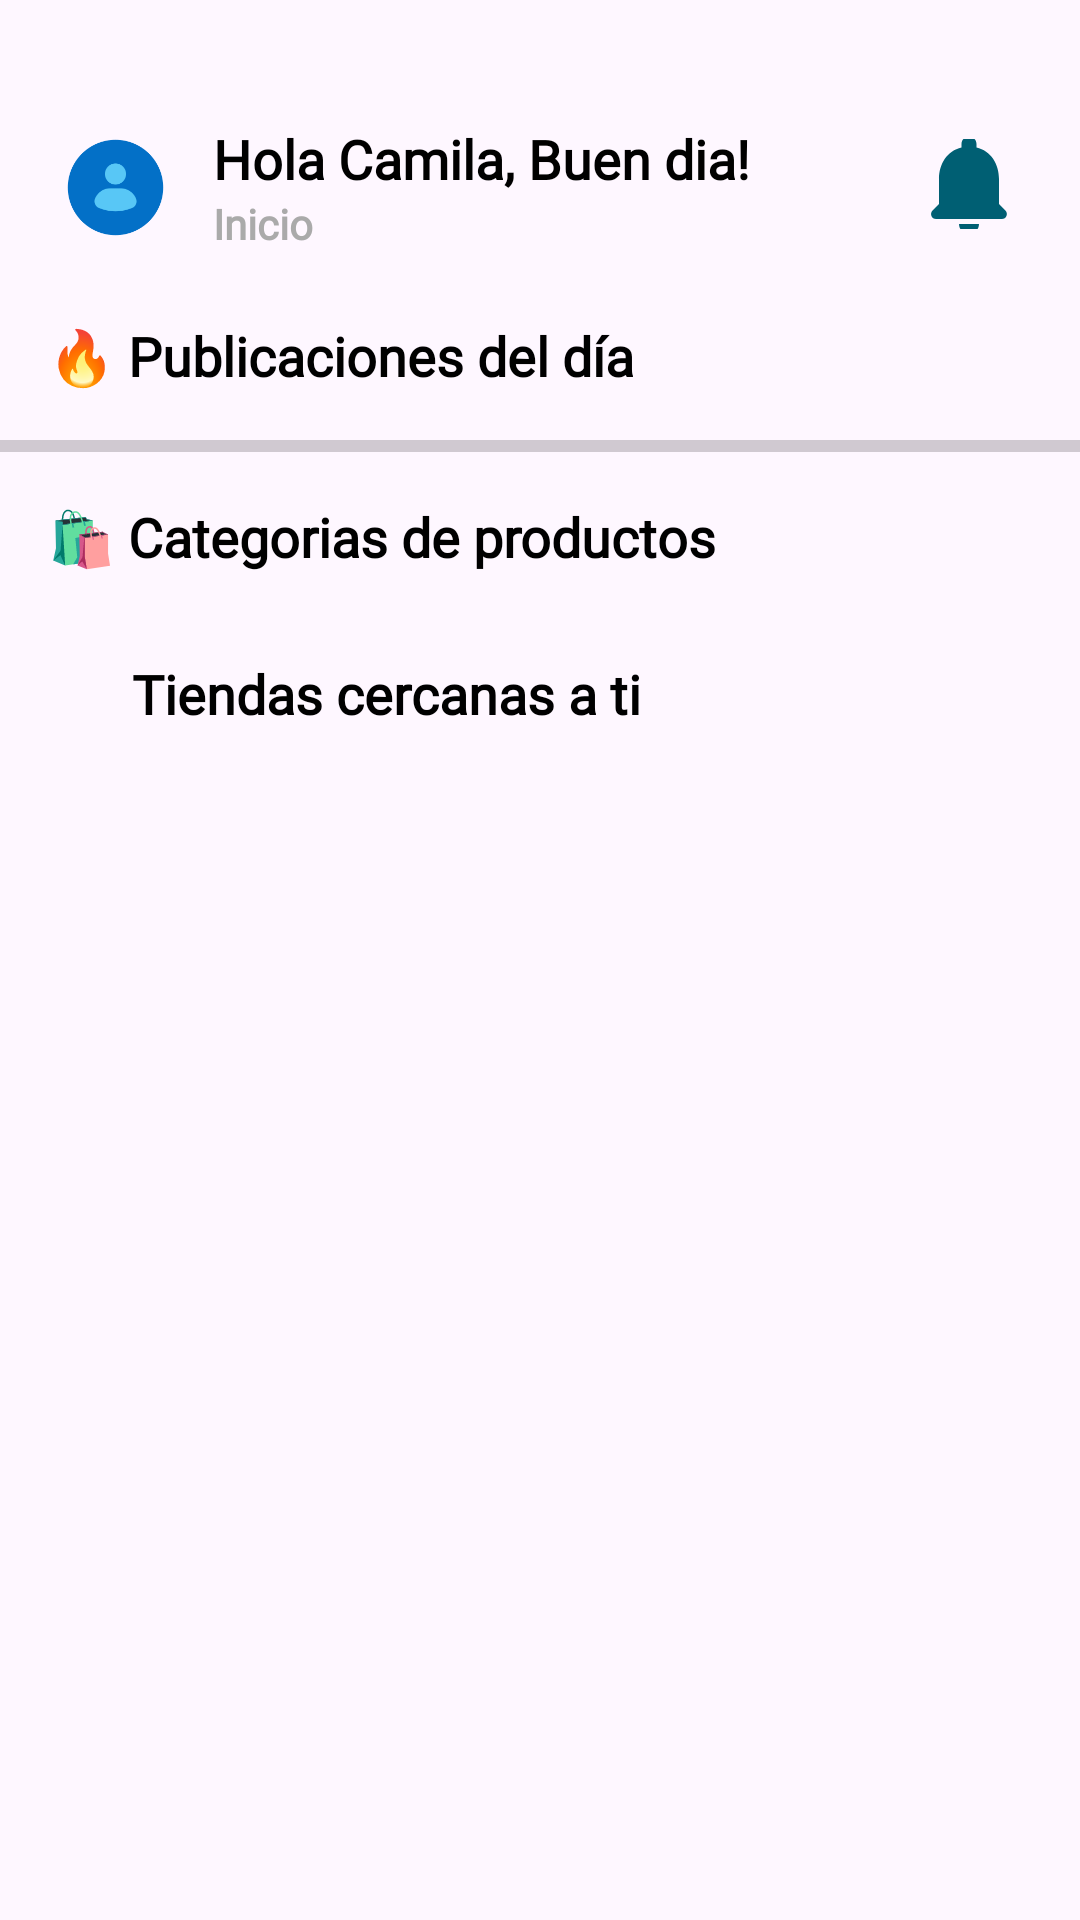

Locate icon controls on the screen. Image size 1080*1920, boxes as bbox=(x1, y1, x2, y2).
perfil: bbox=(67, 139, 164, 236)
